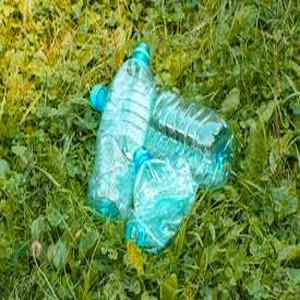Plastic: (85, 37, 151, 213), (124, 147, 191, 254)
